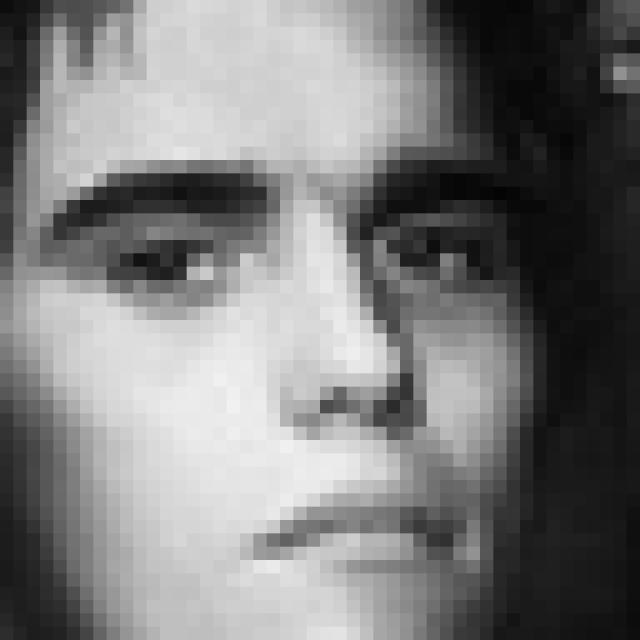neutral: (44, 156, 515, 586)
